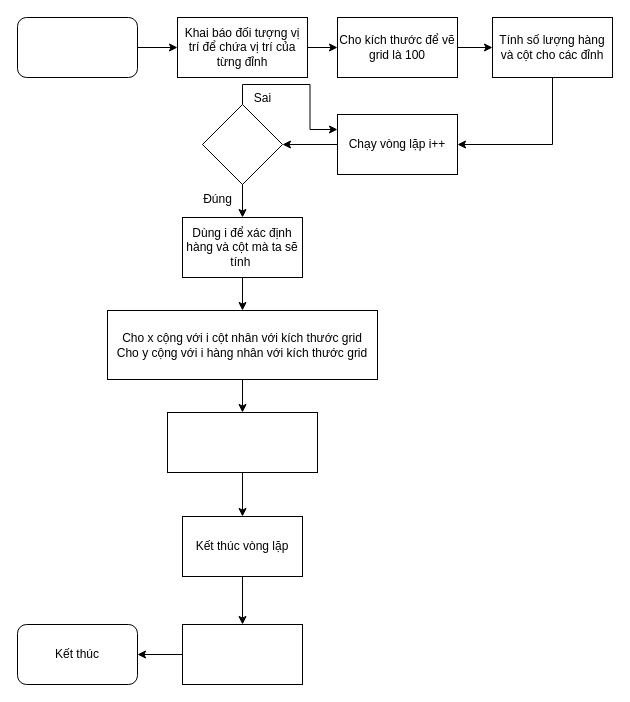
The diagram is 630 pixels wide and 702 high, and some of its shapes have lost their labels. Each missing label, with the centre of its shape:
Bắt đầu: the point at 77,47
Dùng đối tượng vị trí để lưu Khoá - Giá trị. Ở đây là Đỉnh i - [x,y]: the point at 242,442
i nhỏ hơn soDinh: the point at 242,144
Trả về đối tượng vị trí: the point at 242,654
